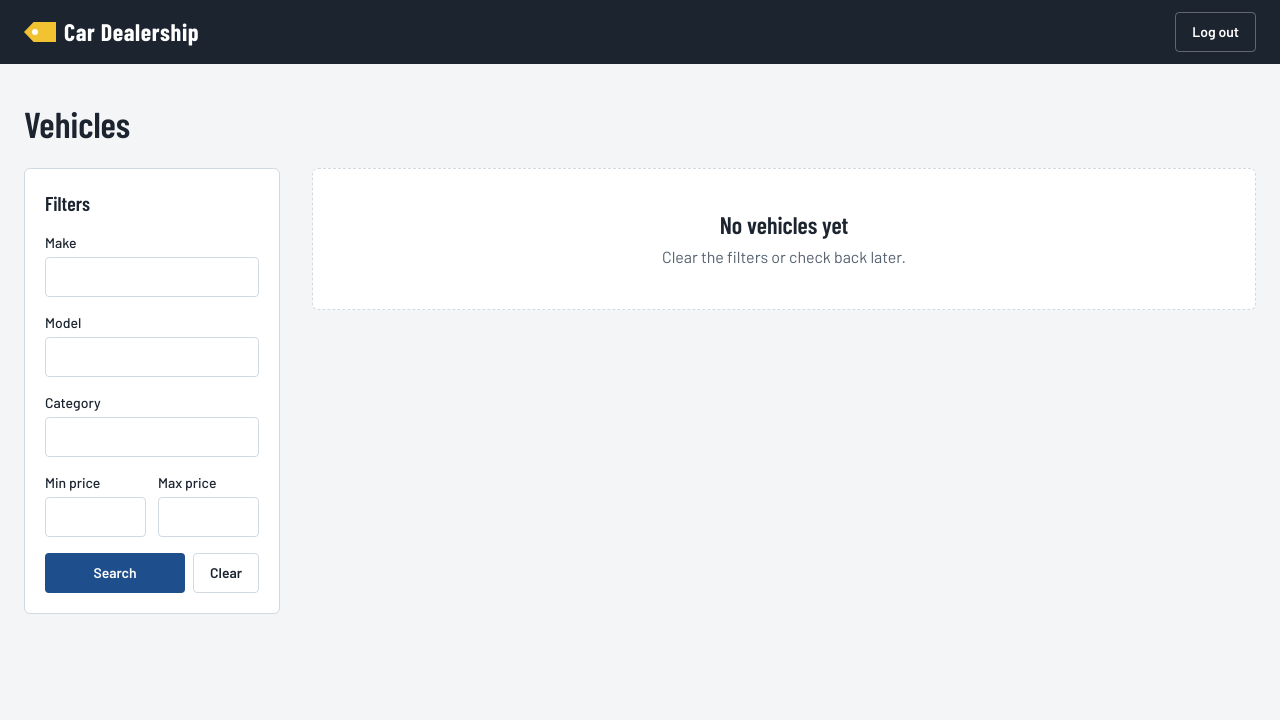
Test: a signed-in user can log out, which clears the session and returns to /login
The width and height of the screenshot is (1280, 720).
Check: the text "No vehicles yet" is shown, box x1=720 y1=210 x2=848 y2=239
Click the button "Log out" at point(1216, 32), box x1=1175 y1=12 x2=1256 y2=52
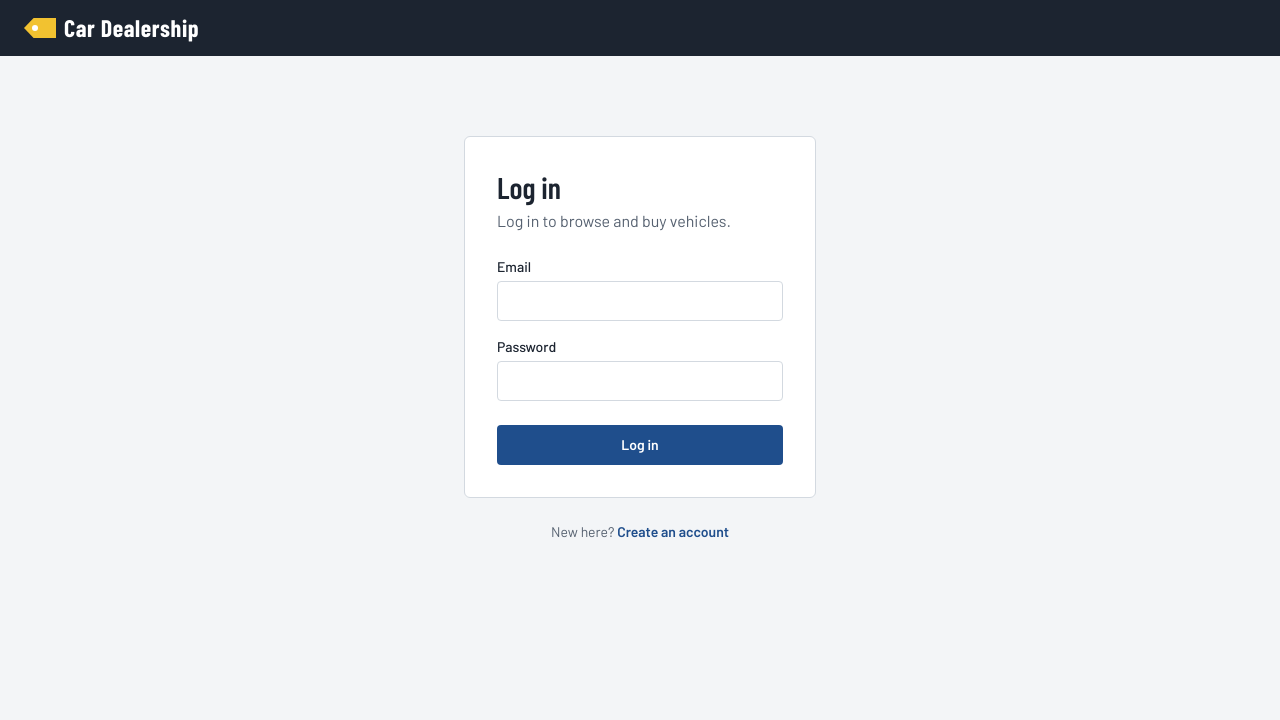
Check: the heading "Log in" is shown, box x1=497 y1=169 x2=561 y2=205
Check: the button "Log out" is gone
